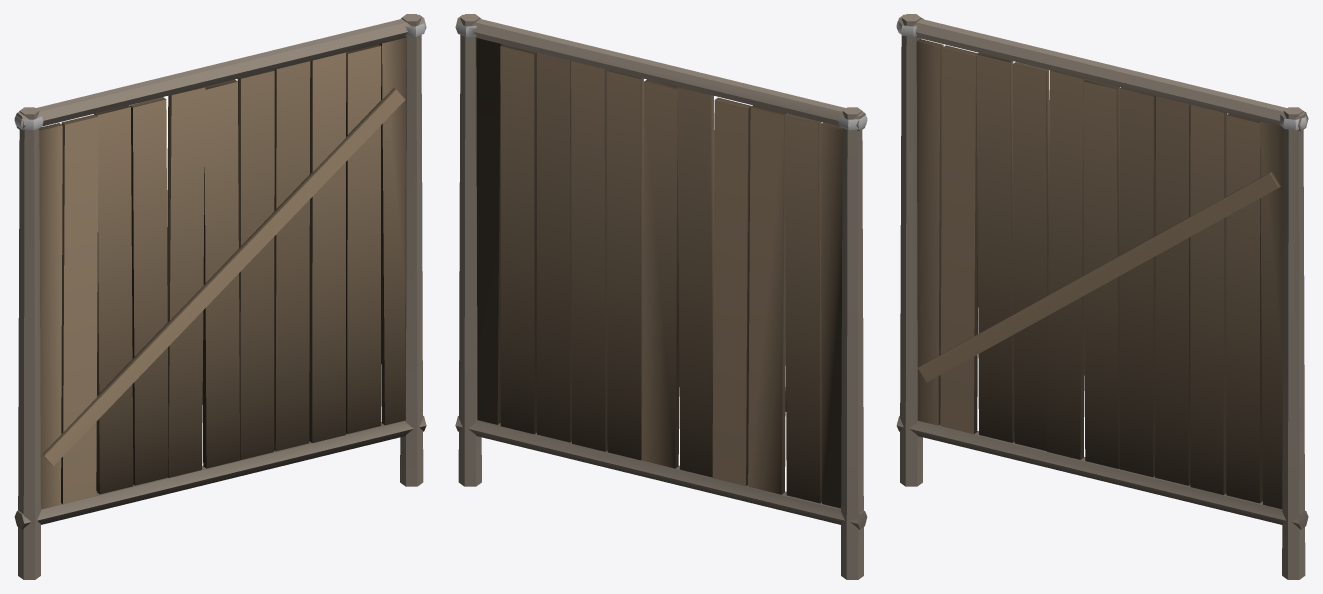
File: muro.glb
3 views of the same model, side by side, from view 1: azimuth 30°, elevation 25°; view 2: azimuth 150°, elevation 25°; view 3: azimuth 330°, elevation 25° (orthographic).
Visible parts, largest first — view 1: muro; view 2: muro; view 3: muro.
Boxes of the visible parts, x1=… form: muro: x1=14, y1=14, x2=426, y2=579; muro: x1=455, y1=14, x2=867, y2=579; muro: x1=896, y1=14, x2=1308, y2=579.
Size of the model in its own units: 2.43 by 2.65 by 0.1521.
